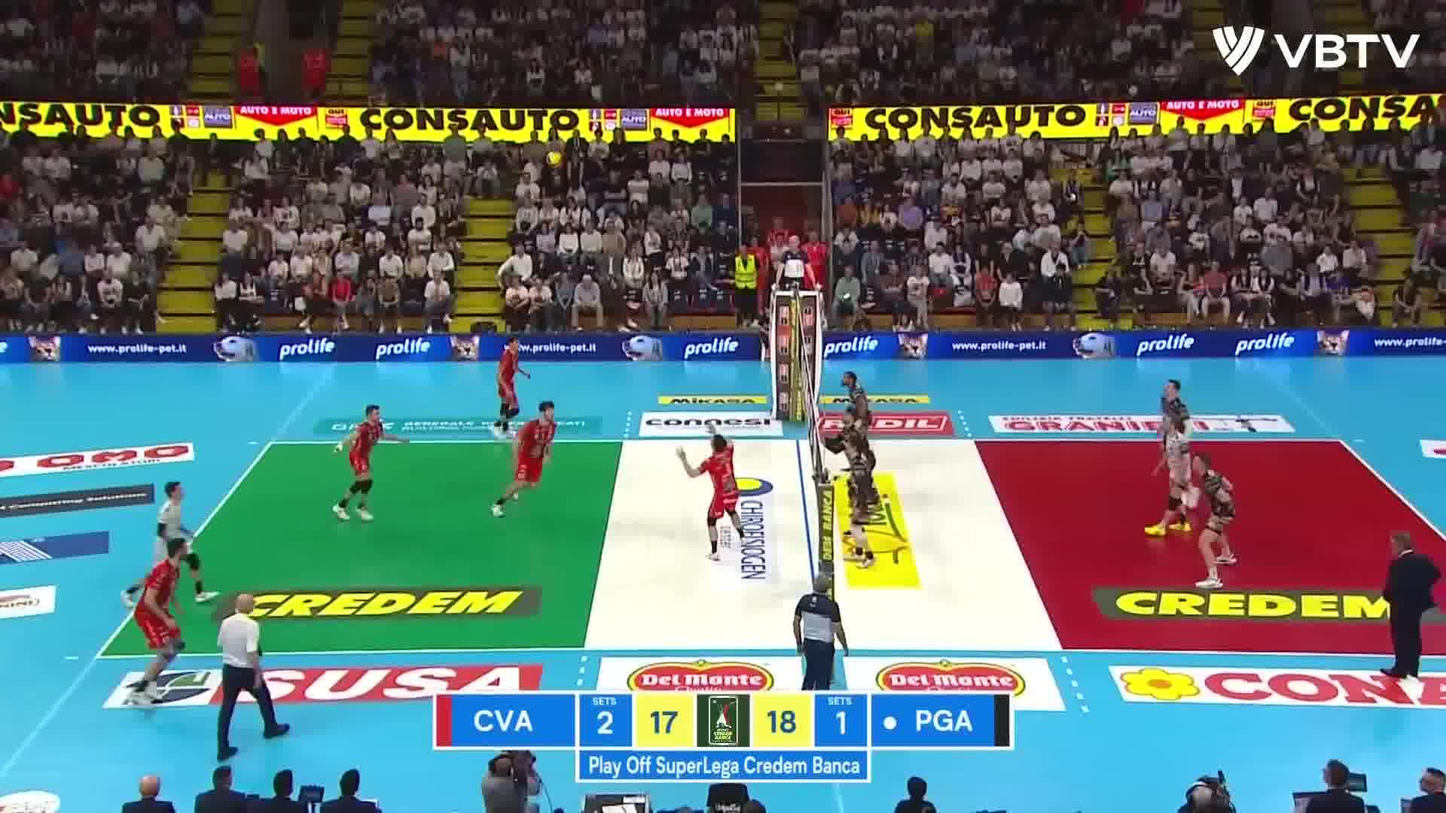balls: (545, 148, 565, 172)
